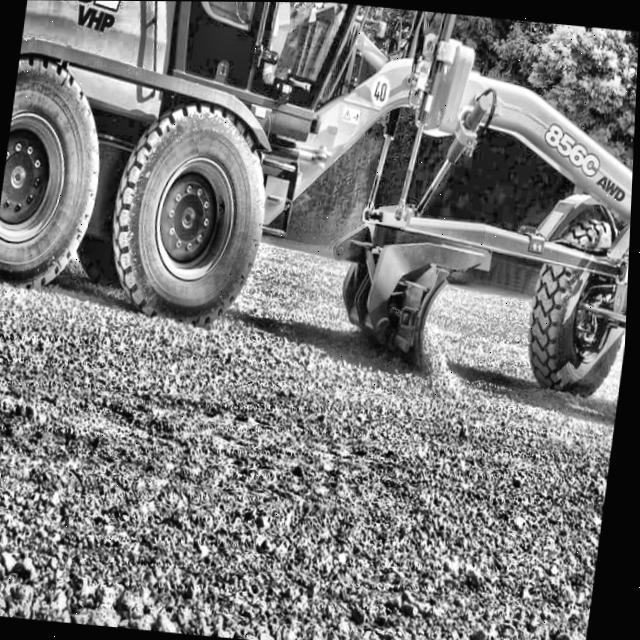buldozerpayloadergrader: (0, 0, 640, 437)
